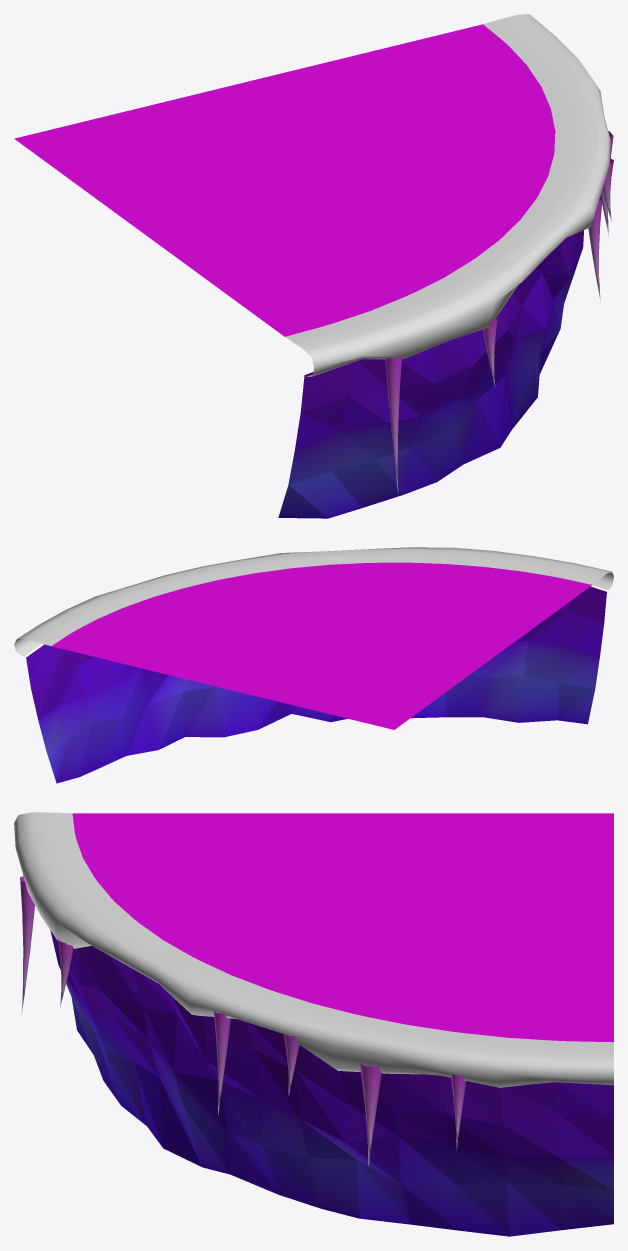
The model's file is Kit_Ice_Corner.fbx.
3 views of the same model, one above another, from view 1: azimuth 30°, elevation 25°; view 2: azimuth 150°, elevation 25°; view 3: azimuth 270°, elevation 25° (orthographic). The views are drawn at different scales.
Visible parts, largest first — view 1: Ice_Corner; view 2: Ice_Corner; view 3: Ice_Corner.
Part boxes in pixels (bbox=[...]): Ice_Corner: bbox=[14, 14, 613, 518]; Ice_Corner: bbox=[14, 547, 613, 783]; Ice_Corner: bbox=[14, 812, 613, 1236].
Bounding box in the file's own units: 4.1 × 1.6 × 4.1.
